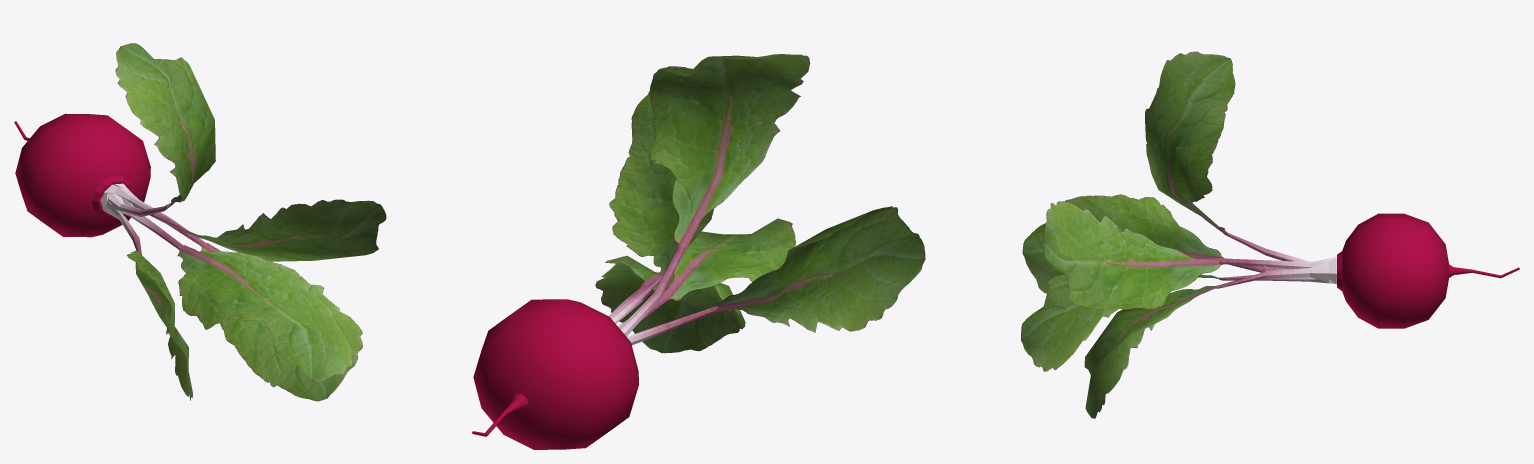
Rendered from Radish.obj.
3 renders of one model, left to right at view 1: azimuth 30°, elevation 25°; view 2: azimuth 150°, elevation 25°; view 3: azimuth 270°, elevation 25°, orthographic. The views are drawn at different scales.
Visible parts, largest first — view 1: Radish_07; view 2: Radish_07; view 3: Radish_07.
Boxes of the visible parts, bbox=[...] form: Radish_07: bbox=[14, 43, 386, 401]; Radish_07: bbox=[472, 54, 925, 449]; Radish_07: bbox=[1021, 51, 1519, 418].
Bounding box in the file's own units: 2.5 × 3 × 4.
